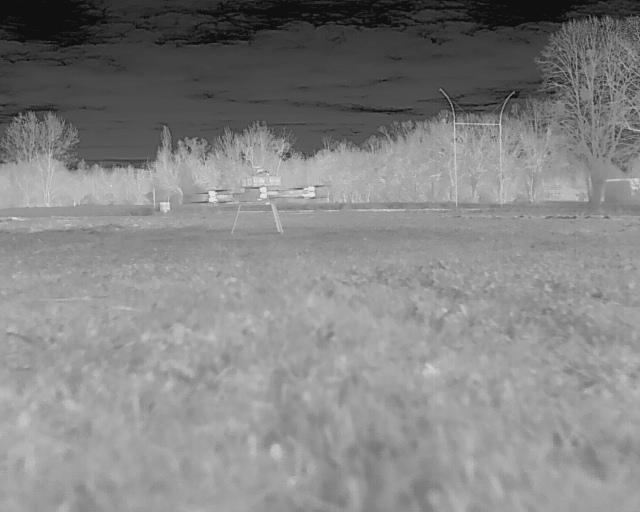drone: (187, 166, 335, 243)
